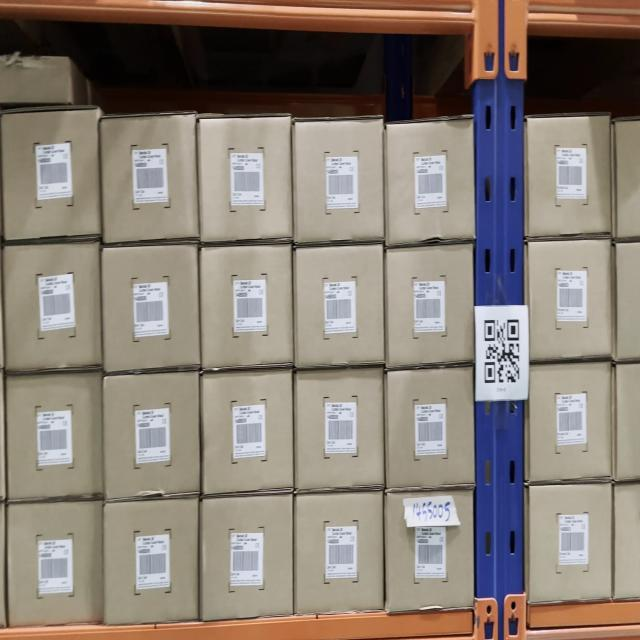box: (3, 112, 98, 238), (104, 115, 196, 243), (105, 372, 199, 497), (199, 495, 293, 617), (9, 373, 101, 497), (198, 117, 293, 236), (101, 247, 198, 363), (295, 119, 384, 244), (200, 376, 295, 492), (8, 506, 102, 622), (203, 245, 292, 367), (4, 250, 100, 362), (296, 367, 383, 490), (292, 249, 384, 363), (388, 370, 476, 489), (105, 505, 198, 617), (388, 121, 474, 242), (525, 117, 613, 234), (530, 238, 612, 360), (296, 496, 385, 608), (386, 495, 474, 608), (386, 251, 474, 362), (528, 488, 612, 600), (530, 367, 611, 479)
